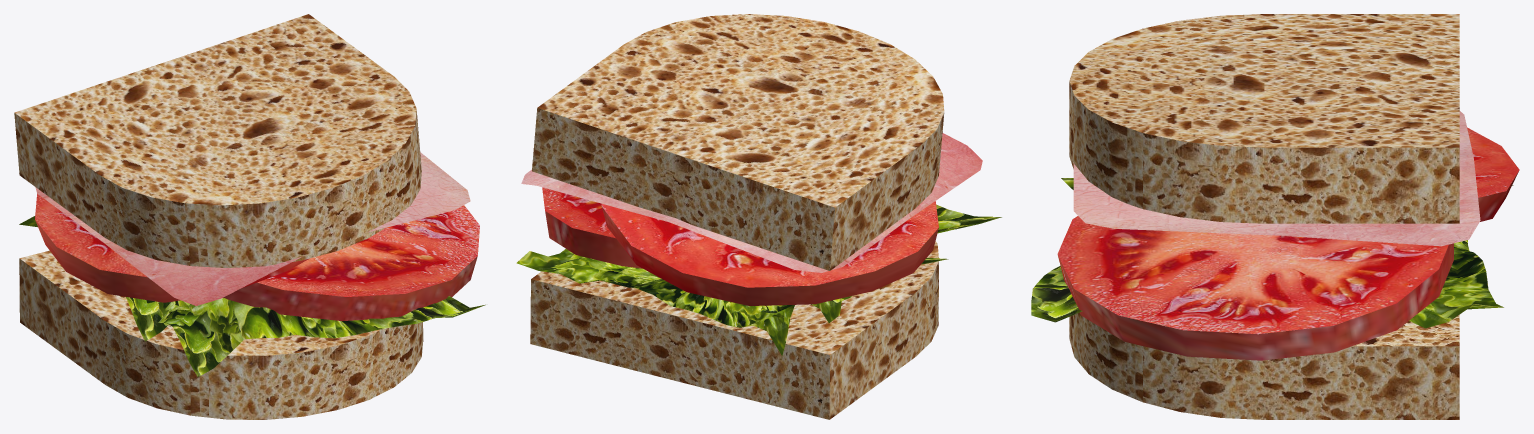
File: sandwich.glb
3 renders of one model, left to right at view 1: azimuth 30°, elevation 25°; view 2: azimuth 150°, elevation 25°; view 3: azimuth 270°, elevation 25°, orthographic. The views are drawn at different scales.
Parts seen in each view (by area): view 1: Cube.001, Cube, Circle, Plane.001, Plane, Circle.001, Plane.002; view 2: Cube.001, Cube, Circle.001, Plane.002, Plane, Circle, Plane.001; view 3: Cube.001, Circle, Cube, Plane, Plane.002, Circle.001, Plane.001.
Part boxes in pixels (<box>): Cube.001: <box>14,14,421,267</box>; Cube: <box>19,250,423,419</box>; Circle: <box>223,205,479,321</box>; Plane.001: <box>146,296,485,376</box>; Plane: <box>35,152,470,305</box>; Circle.001: <box>35,193,309,302</box>; Plane.002: <box>19,216,190,341</box>; Cube.001: <box>532,14,944,270</box>; Cube: <box>530,241,938,419</box>; Circle.001: <box>601,201,938,305</box>; Plane.002: <box>516,249,948,355</box>; Plane: <box>521,133,982,272</box>; Circle: <box>542,187,642,268</box>; Plane.001: <box>811,204,1001,322</box>; Cube.001: <box>1069,14,1459,223</box>; Circle: <box>1057,216,1453,360</box>; Cube: <box>1069,312,1459,419</box>; Plane: <box>1073,111,1480,246</box>; Plane.002: <box>1409,185,1513,328</box>; Circle.001: <box>1467,127,1519,221</box>; Plane.001: <box>1031,178,1082,322</box>.
Bounding box in the file's own units: 2.54 × 1.54 × 2.5.
Materials: 4 (4 with a texture image).
